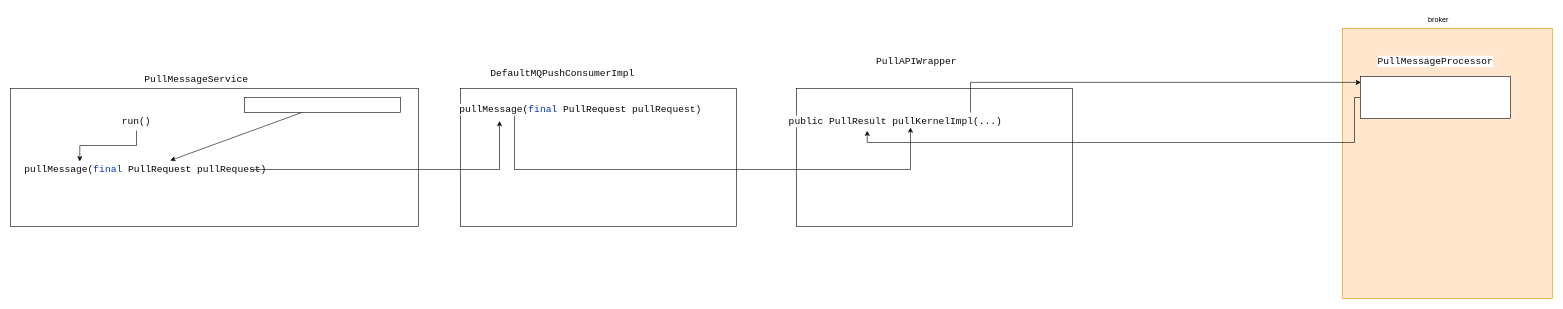
Image size: 1563x309. Some labels were removed from this diagram. The shapes that lost their labels are listed below. From the top down, each one's centre as x and y in pixels, then its label:
the point at 322,104: LinkedBlockingQueue< PullRequest >
the point at 1435,97: processRequest(...)
